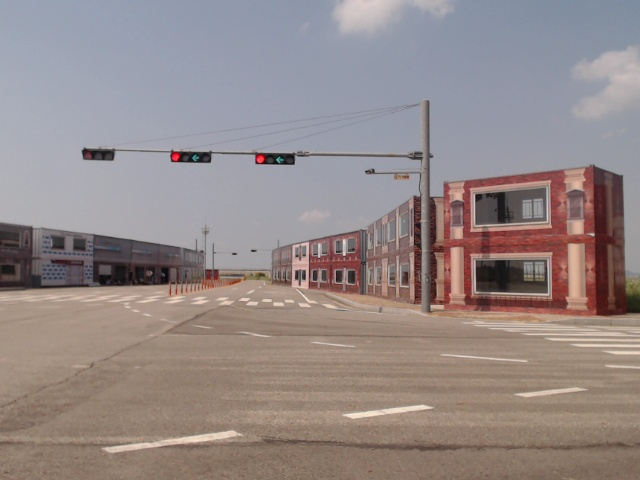left_green_4: (255, 154, 294, 166), (171, 153, 213, 162)
